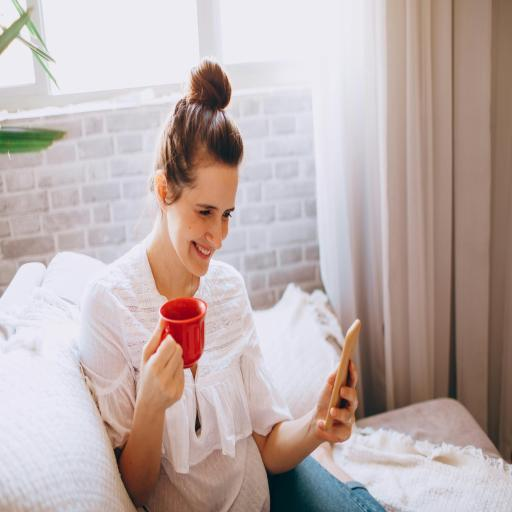cup: (158, 296, 207, 370)
phone: (325, 318, 361, 430)
